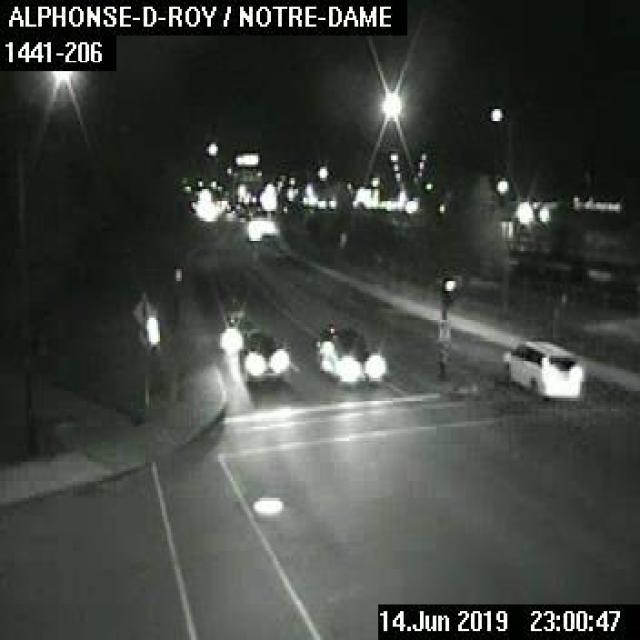vehicle: (502, 338, 580, 398), (330, 319, 386, 386), (236, 332, 292, 376), (216, 309, 251, 352), (314, 324, 335, 374)
